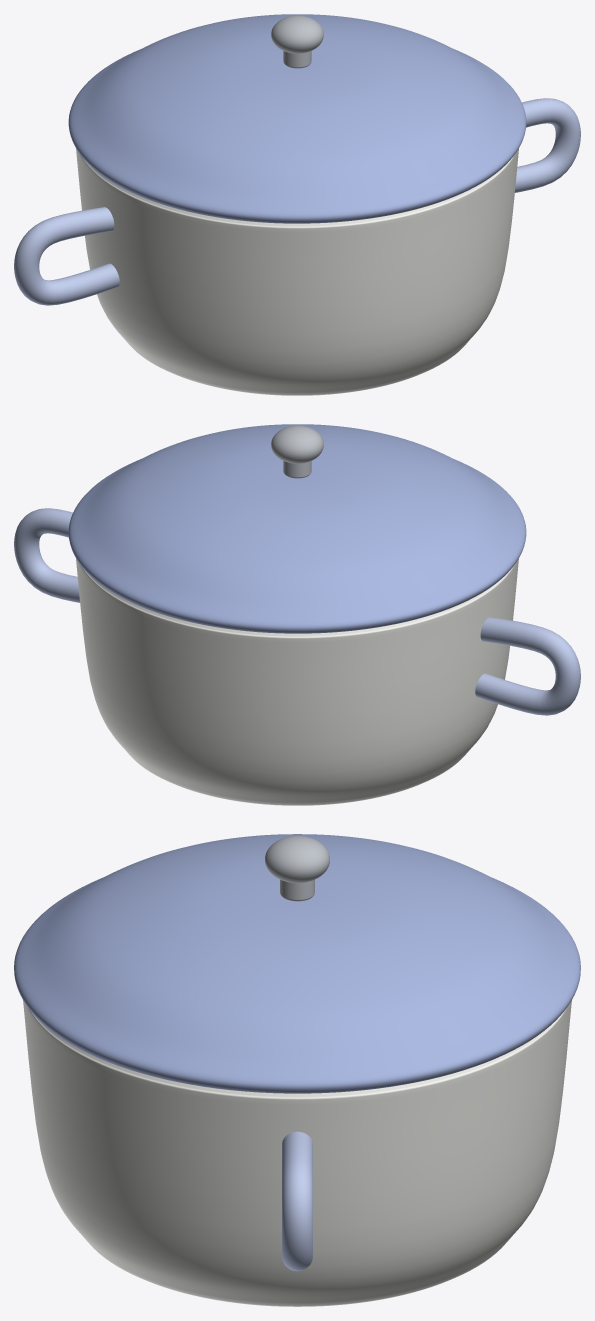
File: lidded-pot.glb
The picture shows the model from 3 angles, top to bottom: view 1: azimuth 30°, elevation 25°; view 2: azimuth 150°, elevation 25°; view 3: azimuth 270°, elevation 25°; orthographic projection. The views are drawn at different scales.
Visible parts, largest first — view 1: double-walled-domed-pot-lid, hollow-vessel-with-rolled-lip, side-handles-003, side-handles-006, lid-with-attached-knob-012; view 2: double-walled-domed-pot-lid, hollow-vessel-with-rolled-lip, side-handles-003, side-handles-006, lid-with-attached-knob-012; view 3: double-walled-domed-pot-lid, hollow-vessel-with-rolled-lip, side-handles-006, lid-with-attached-knob-012, lid-with-attached-knob-011.
Boxes of the visible parts, x1,y1,x2,y2 form: double-walled-domed-pot-lid: (68, 14, 526, 223); hollow-vessel-with-rolled-lip: (76, 148, 518, 395); side-handles-003: (14, 207, 119, 305); side-handles-006: (515, 98, 580, 192); lid-with-attached-knob-012: (271, 15, 323, 53); double-walled-domed-pot-lid: (68, 424, 526, 633); hollow-vessel-with-rolled-lip: (76, 558, 518, 805); side-handles-003: (475, 617, 580, 715); side-handles-006: (14, 508, 79, 602); lid-with-attached-knob-012: (271, 425, 323, 463); double-walled-domed-pot-lid: (14, 834, 580, 1093); hollow-vessel-with-rolled-lip: (23, 1000, 571, 1306); side-handles-006: (282, 1131, 312, 1271); lid-with-attached-knob-012: (265, 836, 329, 883); lid-with-attached-knob-011: (280, 879, 314, 901).
Size of the model in its own units: 2 by 1.06 by 1.41.
